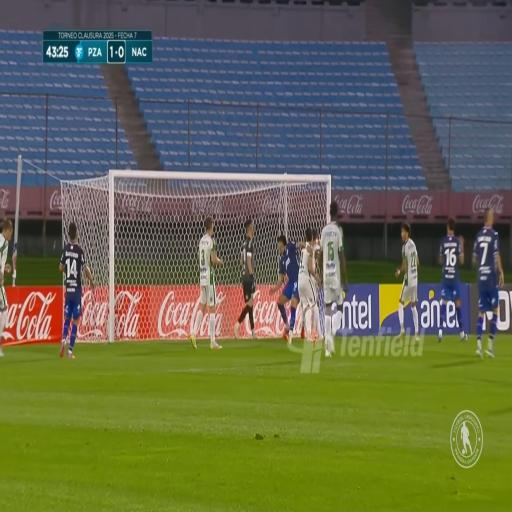Goalkeeper: (242, 216, 255, 340)
Player: (473, 203, 502, 366), (436, 212, 464, 342), (322, 191, 342, 360), (59, 218, 82, 356), (299, 220, 322, 345), (196, 218, 216, 352), (276, 231, 300, 338), (398, 220, 419, 341), (0, 212, 17, 347)
